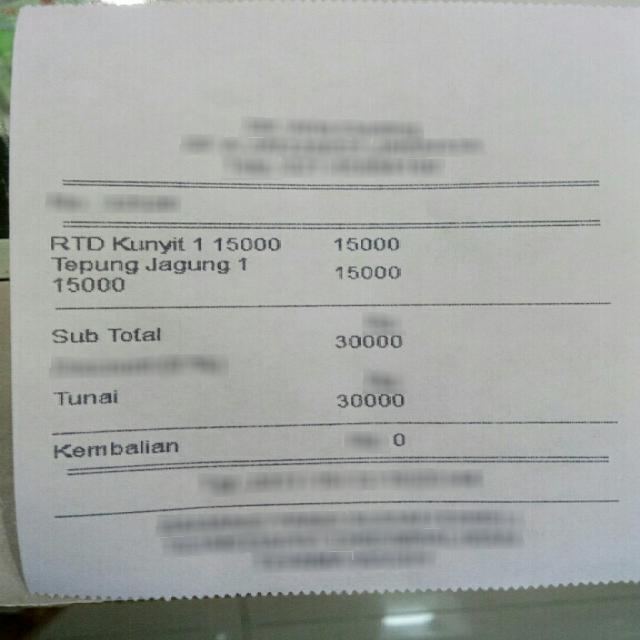kertas: (13, 0, 638, 599)
